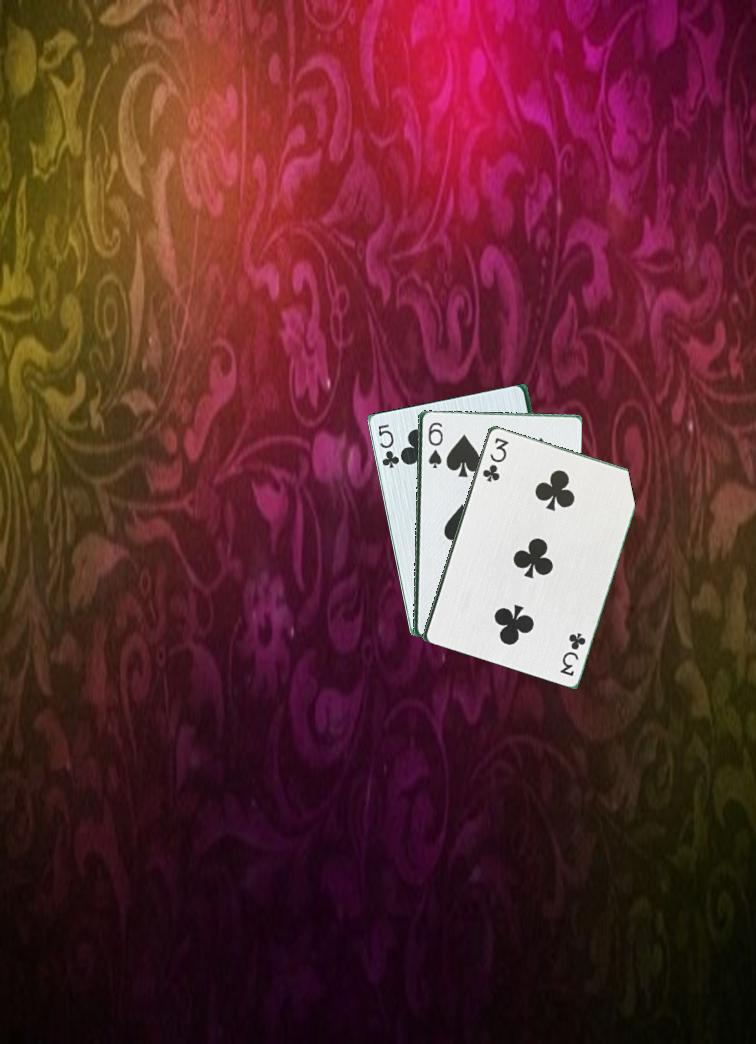3c: (479, 434, 511, 491), (556, 623, 588, 679)
5c: (374, 421, 402, 471)
6s: (424, 418, 444, 472)
